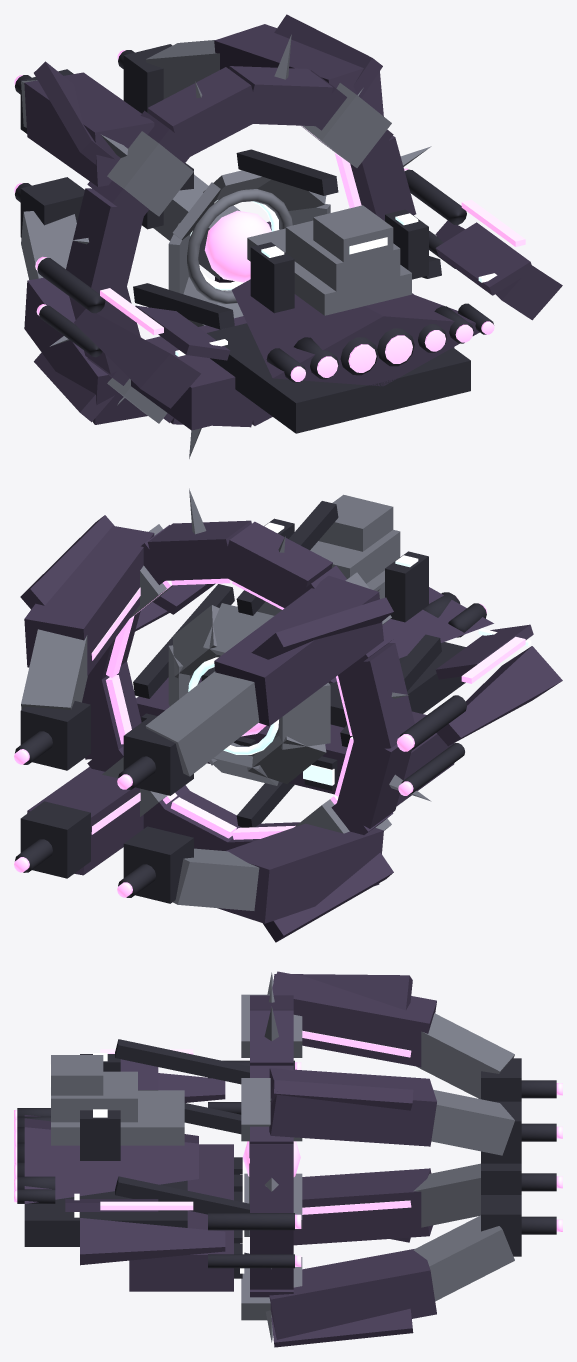
File: boss-carrier.glb
3 views of the same model, one above another, from view 1: azimuth 30°, elevation 25°; view 2: azimuth 150°, elevation 25°; view 3: azimuth 270°, elevation 25° (orthographic). The views are drawn at different scales.
Visible parts, largest first — view 1: 舰腹装甲, 主舰体, 爪上臂1, 环段3, 环段5, 爪上臂2, 左吊舱, 爪上臂0, 机库舱, 环段2, 环节点1, 脊背二层 (+40 smaller); view 2: 爪上臂1, 爪上臂2, 爪上臂0, 爪前臂1, 环段5, 环段3, 左吊舱, 爪上臂3, 环段2, 环段6, 爪前臂0, 爪前臂2 (+47 smaller); view 3: 爪上臂3, 爪上臂0, 爪上臂1, 爪上臂2, 主舰体, 机库舱, 右吊舱, 爪前臂3, 爪前臂1, 舰腹装甲, 爪前臂0, 脊背一层 (+37 smaller).
Boxes of the visible parts, bbox=[...] form: 舰腹装甲: bbox=[207, 323, 470, 433]; 主舰体: bbox=[231, 279, 479, 386]; 爪上臂1: bbox=[24, 72, 154, 186]; 环段3: bbox=[148, 67, 259, 160]; 环段5: bbox=[66, 188, 144, 294]; 爪上臂2: bbox=[24, 277, 147, 424]; 左吊舱: bbox=[74, 309, 200, 408]; 爪上臂0: bbox=[214, 24, 383, 116]; 机库舱: bbox=[131, 293, 454, 430]; 环段2: bbox=[229, 66, 332, 126]; 环节点1: bbox=[107, 131, 193, 216]; 脊背二层: bbox=[285, 220, 400, 291]; 爪上臂1: bbox=[214, 575, 383, 726]; 爪上臂2: bbox=[217, 823, 383, 923]; 爪上臂0: bbox=[24, 523, 154, 675]; 爪前臂1: bbox=[145, 671, 259, 776]; 环段5: bbox=[338, 643, 414, 749]; 环段3: bbox=[220, 521, 332, 608]; 左吊舱: bbox=[436, 646, 562, 746]; 爪上臂3: bbox=[27, 766, 143, 875]; 环段2: bbox=[147, 520, 251, 580]; 环段6: bbox=[335, 735, 411, 828]; 爪前臂0: bbox=[21, 629, 87, 709]; 爪前臂2: bbox=[173, 848, 259, 910]; 爪上臂3: bbox=[269, 1249, 436, 1343]; 爪上臂0: bbox=[269, 1068, 436, 1146]; 爪上臂1: bbox=[270, 971, 436, 1067]; 爪上臂2: bbox=[293, 1168, 432, 1245]; 主舰体: bbox=[24, 1115, 198, 1203]; 机库舱: bbox=[129, 1144, 233, 1291]; 右吊舱: bbox=[80, 1218, 225, 1265]; 爪前臂3: bbox=[413, 1215, 514, 1301]; 爪前臂1: bbox=[416, 1013, 514, 1099]; 舰腹装甲: bbox=[24, 1180, 187, 1246]; 爪前臂0: bbox=[431, 1090, 514, 1155]; 脊背一层: bbox=[51, 1090, 184, 1145].
Size of the model in its own units: 14.5 by 13.14 by 18.89.
